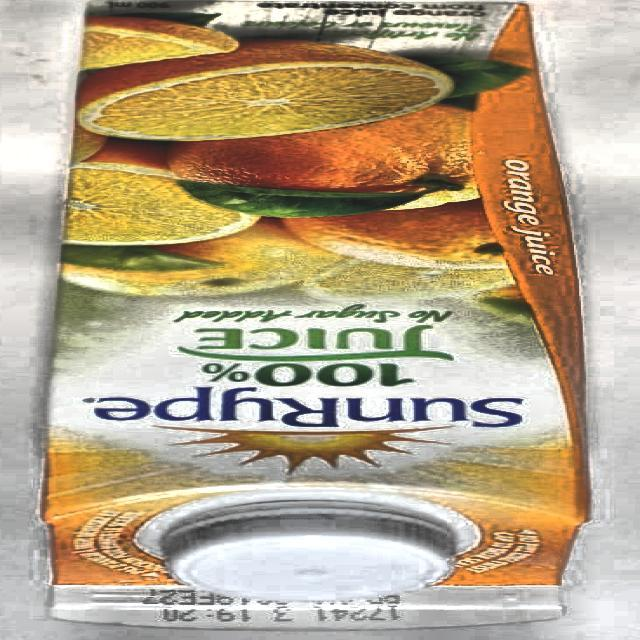cardboard: (36, 0, 594, 633)
